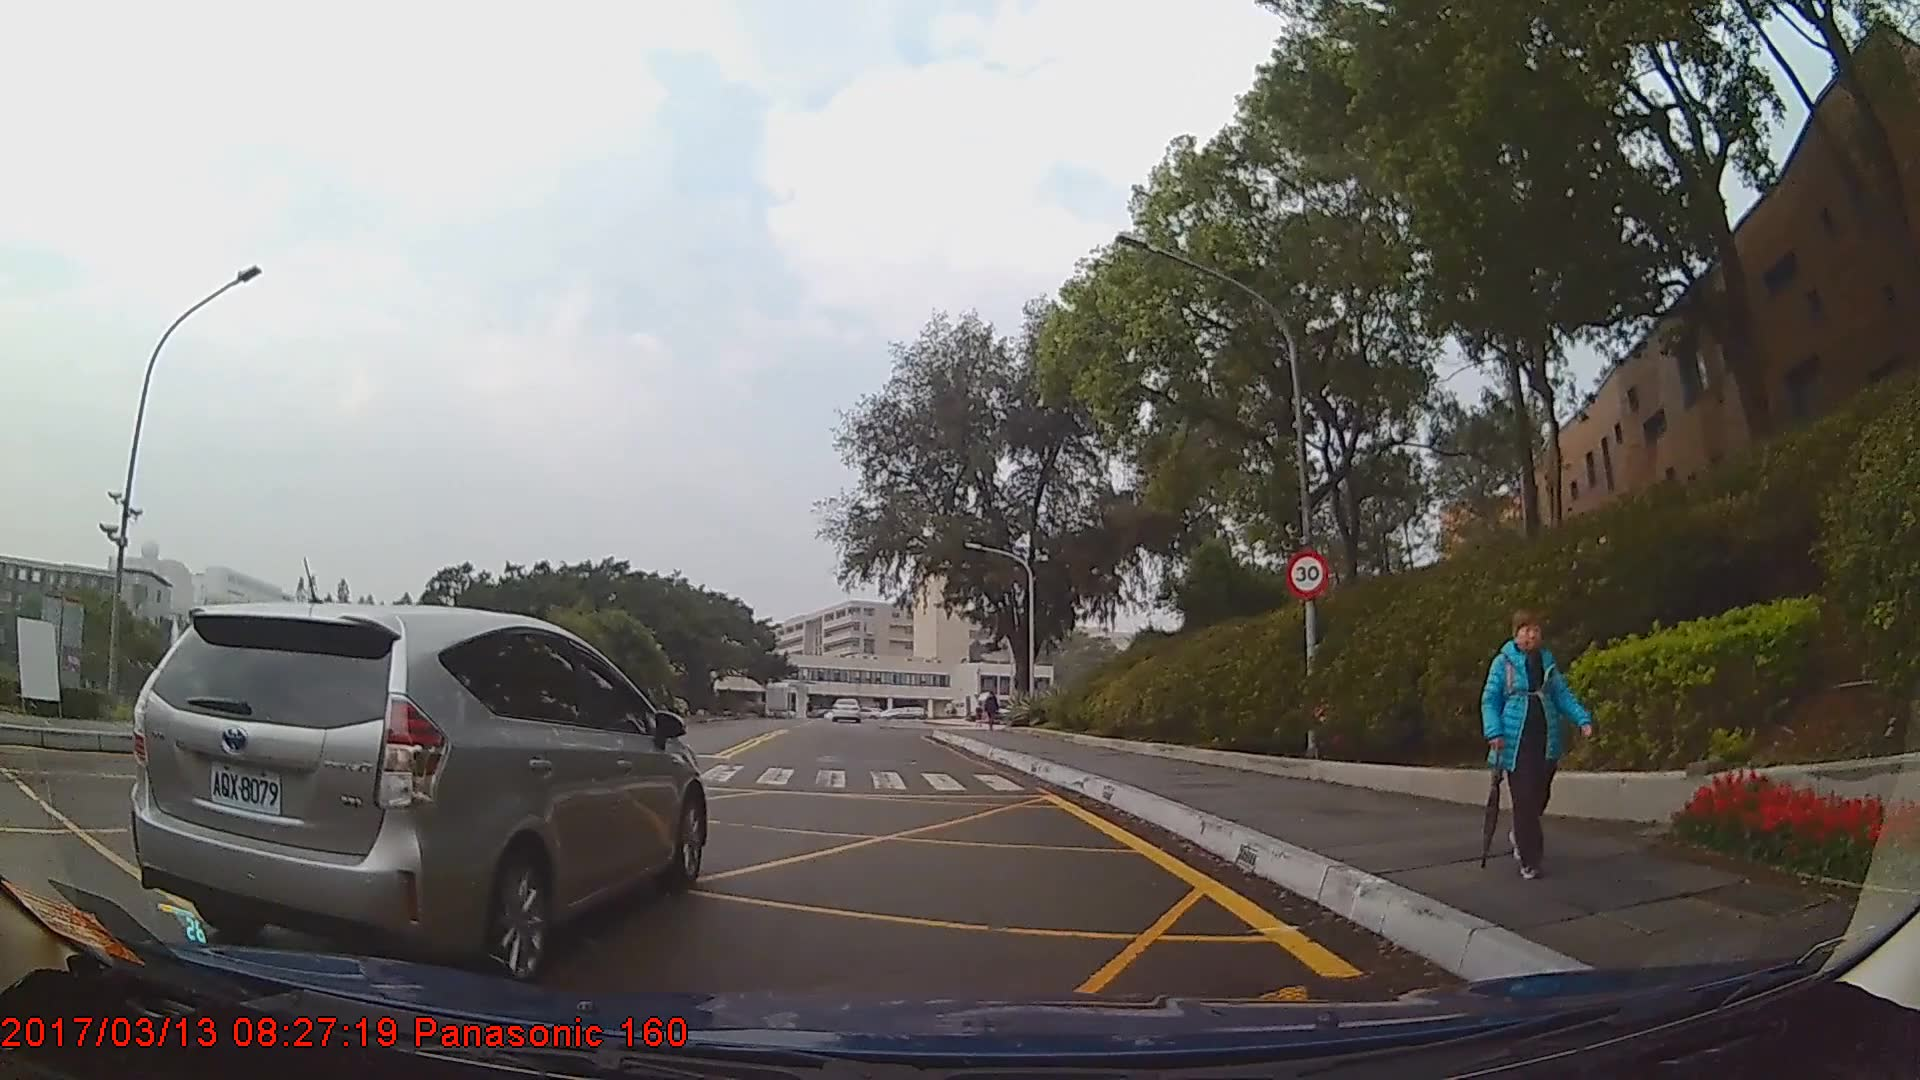pedestrian: (1476, 602, 1598, 883), (985, 692, 1005, 734)
vehicle: (133, 606, 709, 988), (829, 697, 862, 724)
